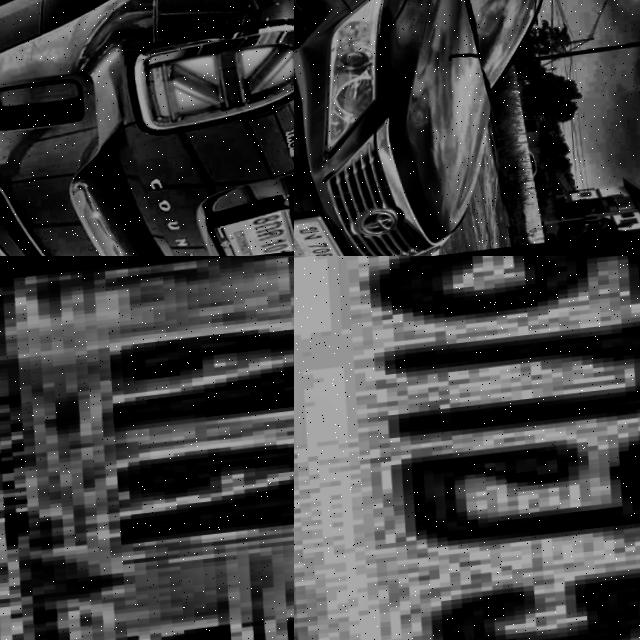license-plate: (294, 256, 640, 640), (0, 256, 294, 640), (208, 195, 294, 256), (294, 206, 358, 256)
